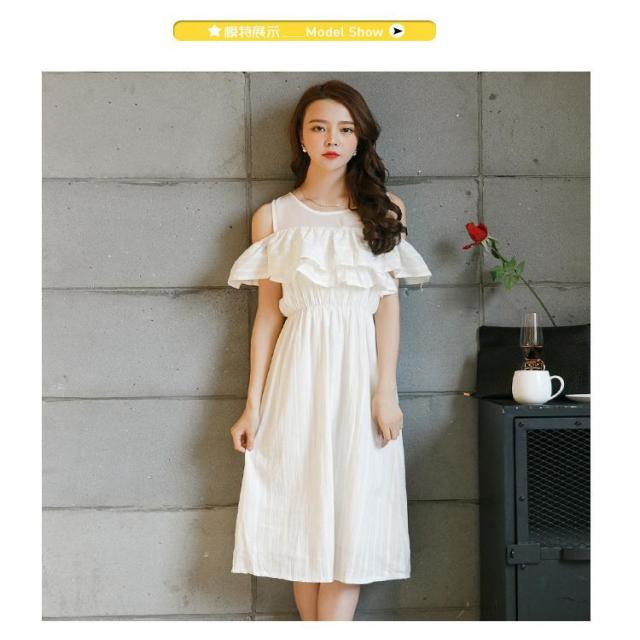short sleeve dress: (230, 194, 430, 584)
